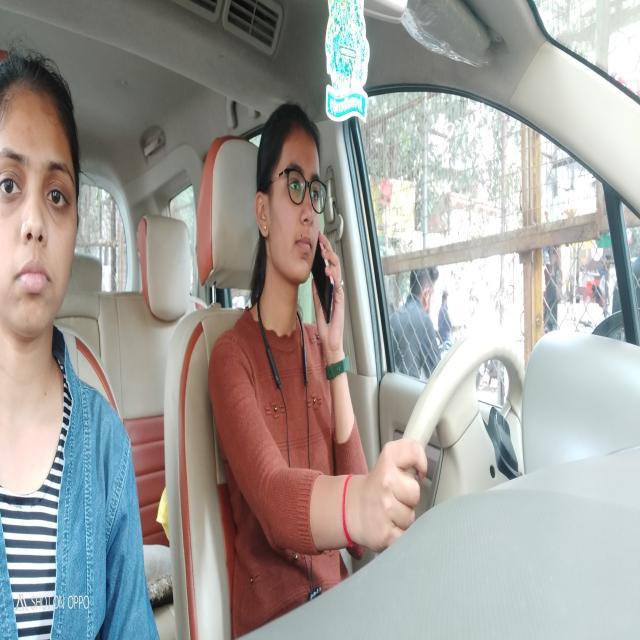mobile: (310, 222, 344, 327)
person: (241, 96, 354, 368), (0, 46, 88, 375)
